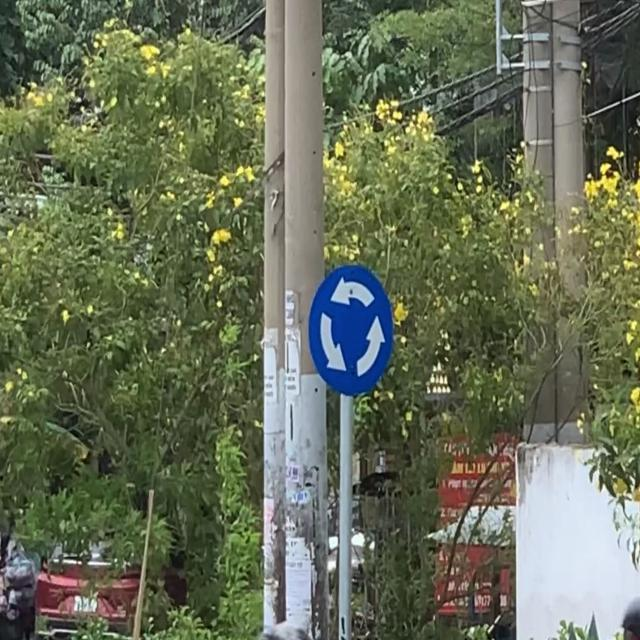Vong xuyen: (308, 260, 394, 400)
